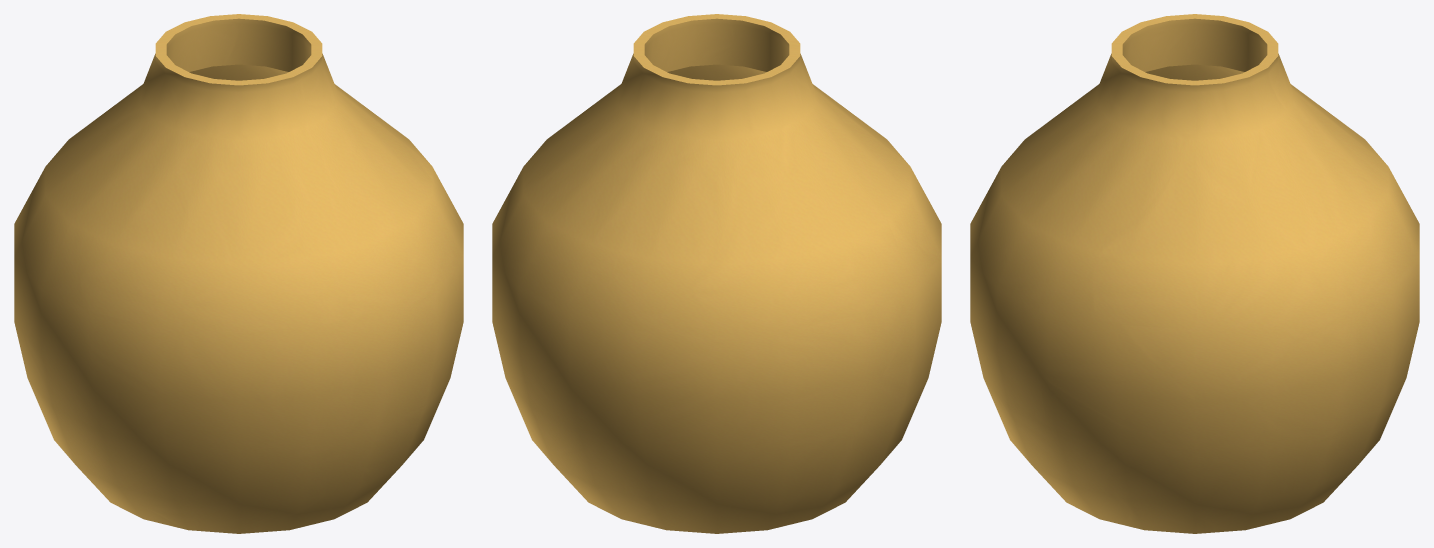
The model's file is Vase 5.FBX.
3 renders of one model, left to right at view 1: azimuth 30°, elevation 25°; view 2: azimuth 150°, elevation 25°; view 3: azimuth 270°, elevation 25°, orthographic.
Parts seen in each view (by area): view 1: Vase 5; view 2: Vase 5; view 3: Vase 5.
Part boxes in pixels (box(x1,y1,x2,y2)): Vase 5: box(14, 14, 463, 533); Vase 5: box(492, 14, 941, 533); Vase 5: box(970, 14, 1419, 533).
Size of the model in its own units: 14.49 by 14.76 by 14.27.
Materials: 1 (1 with a texture image).
